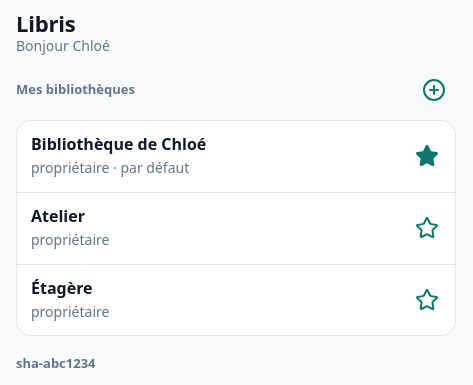
Test case: HomeView › is busy in the tapped row while the default is changed
The image size is (473, 385).
Click the button named "Choisir comme bibliothèque par défaut" in the row of "Atelier" at (427, 228), box 405,206 -> 449,250
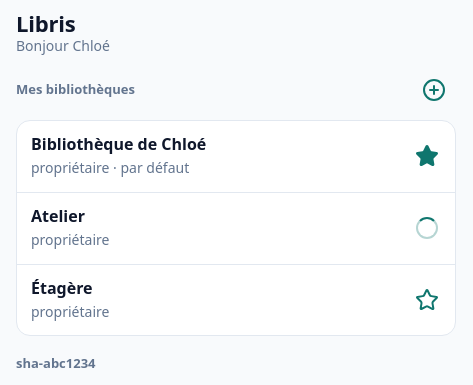
Expected: the button named "Changement en cours…" is shown, 405,206 -> 449,250
